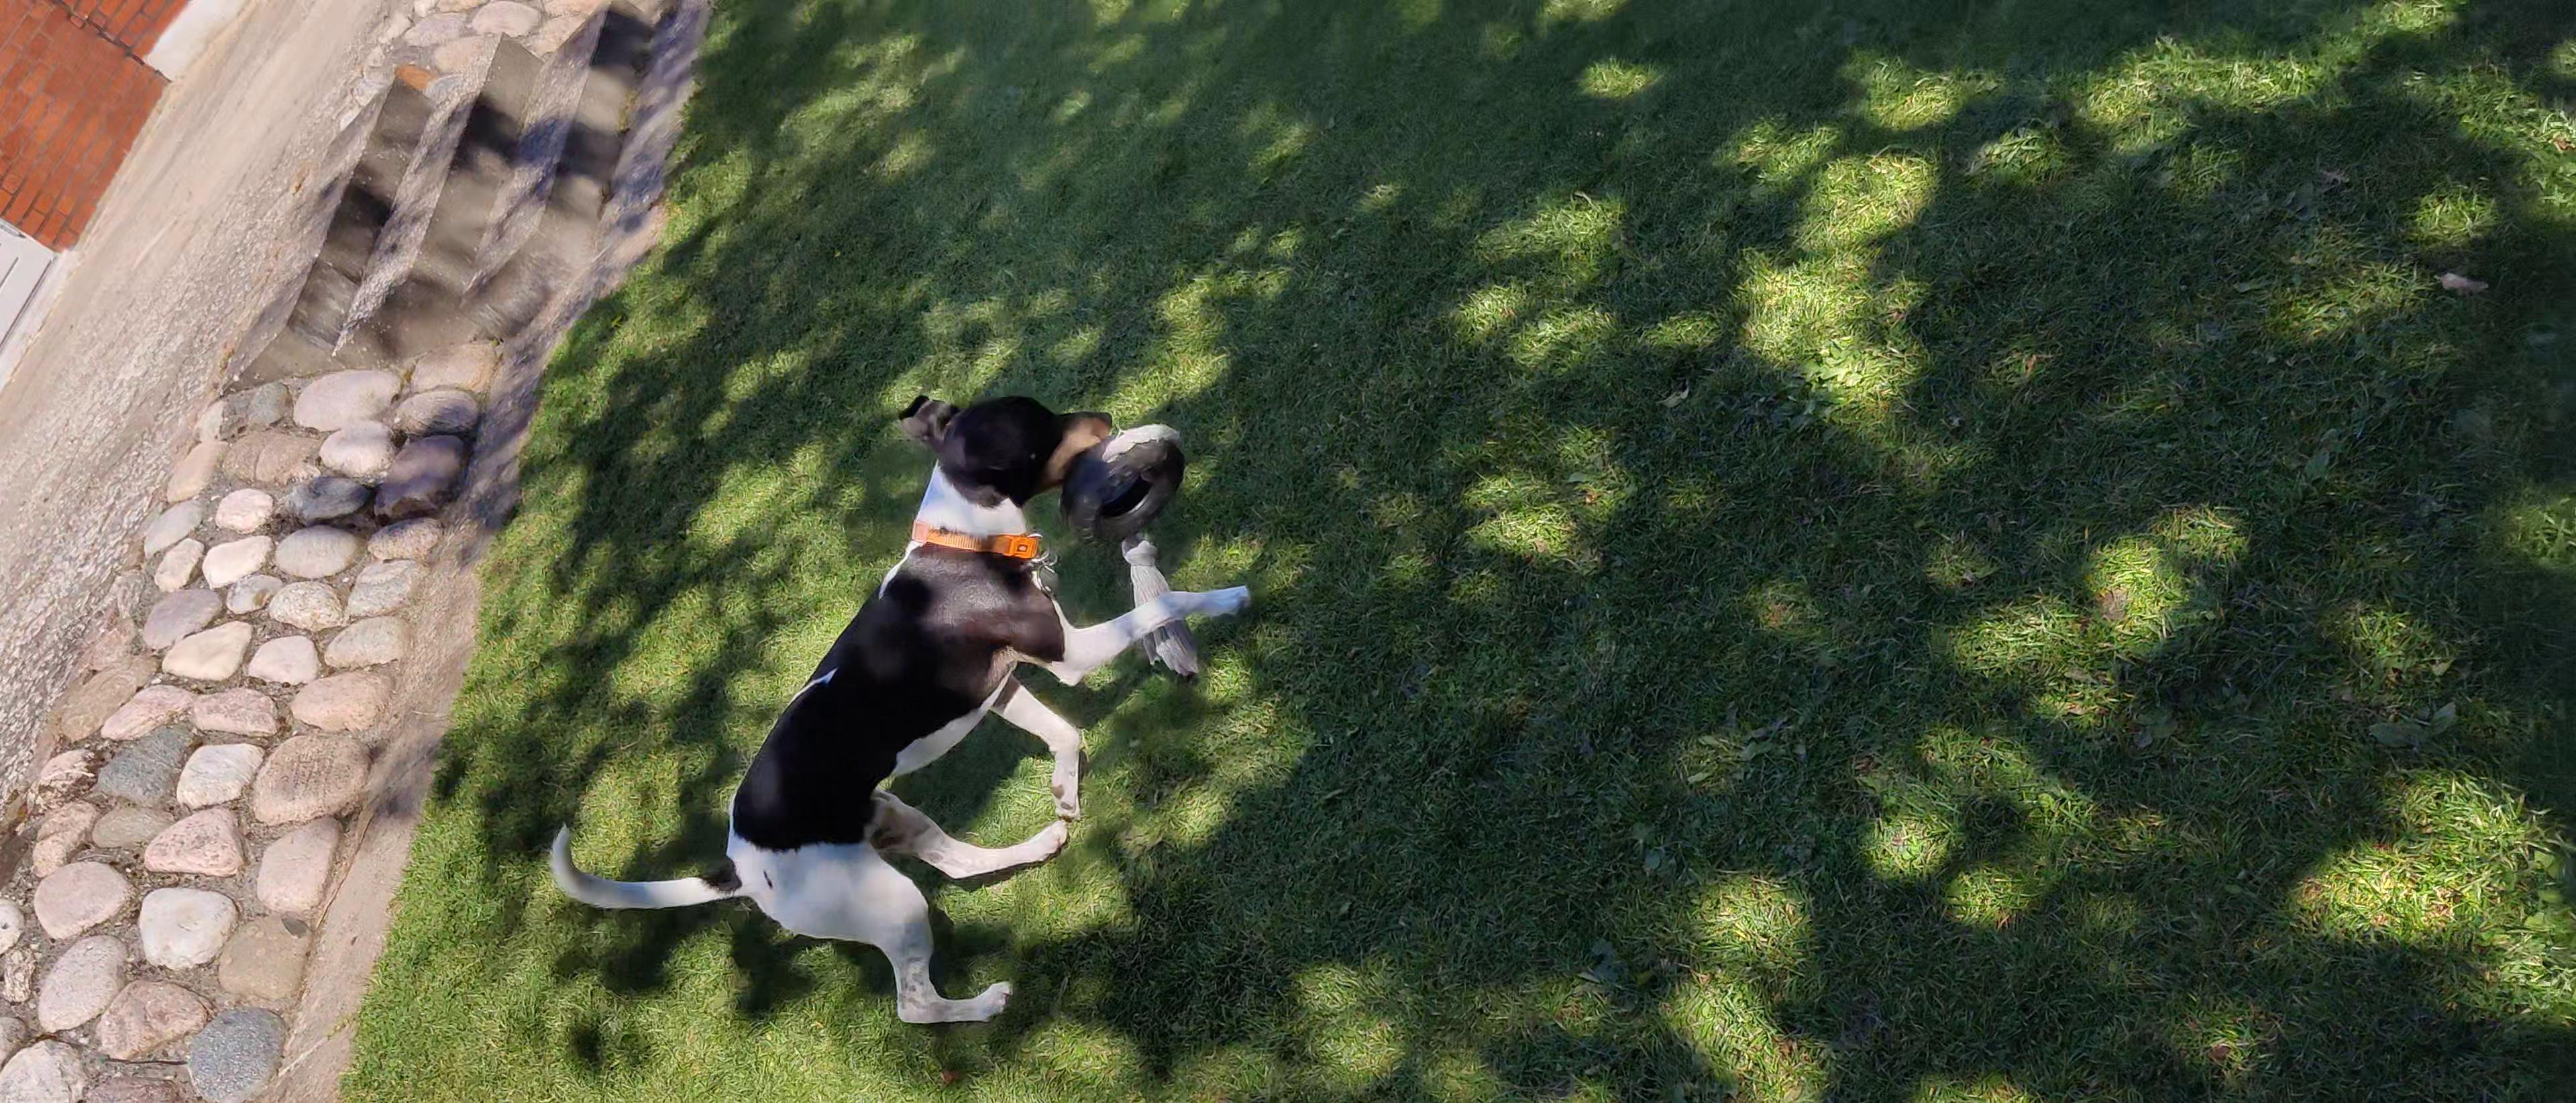Dog: (537, 385, 1260, 1031)
